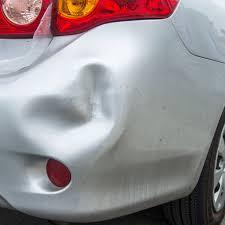dent: (15, 55, 129, 163)
